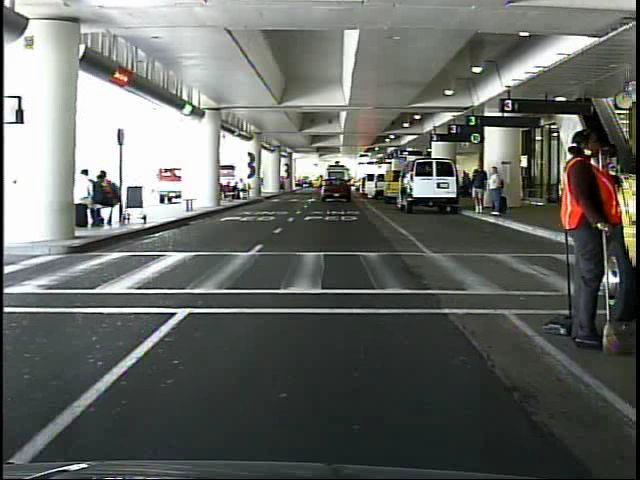person: (563, 118, 629, 357), (489, 162, 509, 222), (471, 155, 490, 218), (316, 170, 328, 194)
